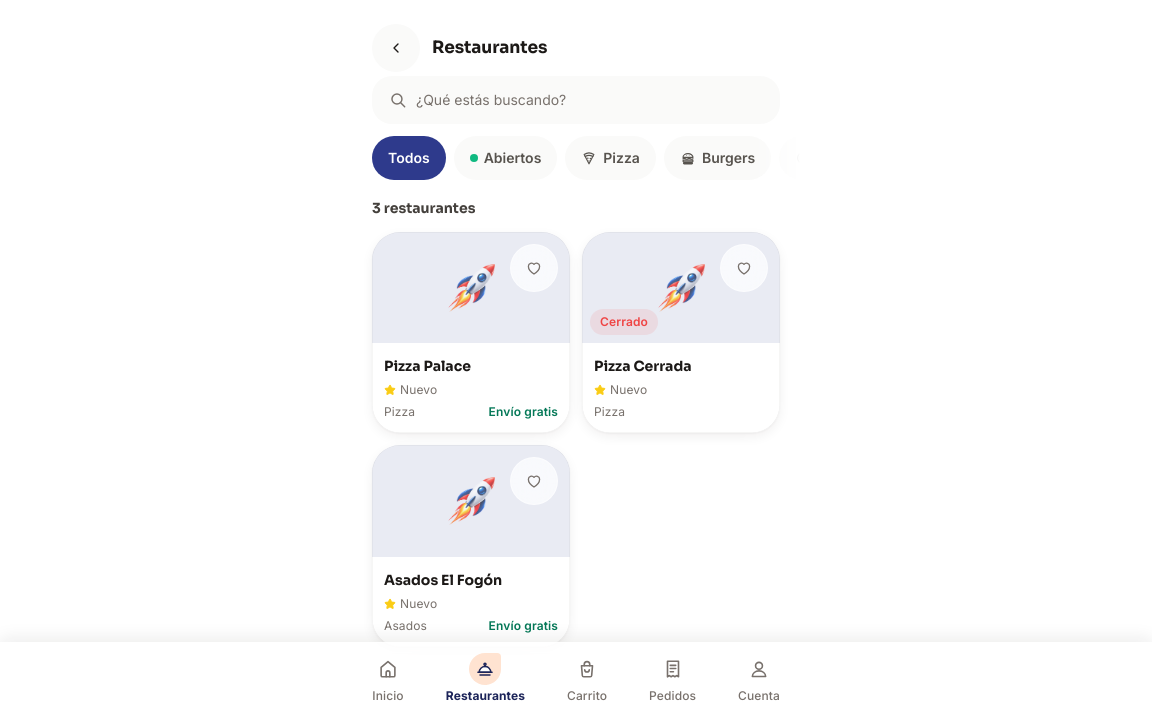
Test case: <RestaurantListPage /> › escribir en la búsqueda filtra, actualiza el contador y la URL
The width and height of the screenshot is (1152, 720).
In the search field named "Buscar restaurantes": (576, 100) [372,76,780,124], type "pizzá"
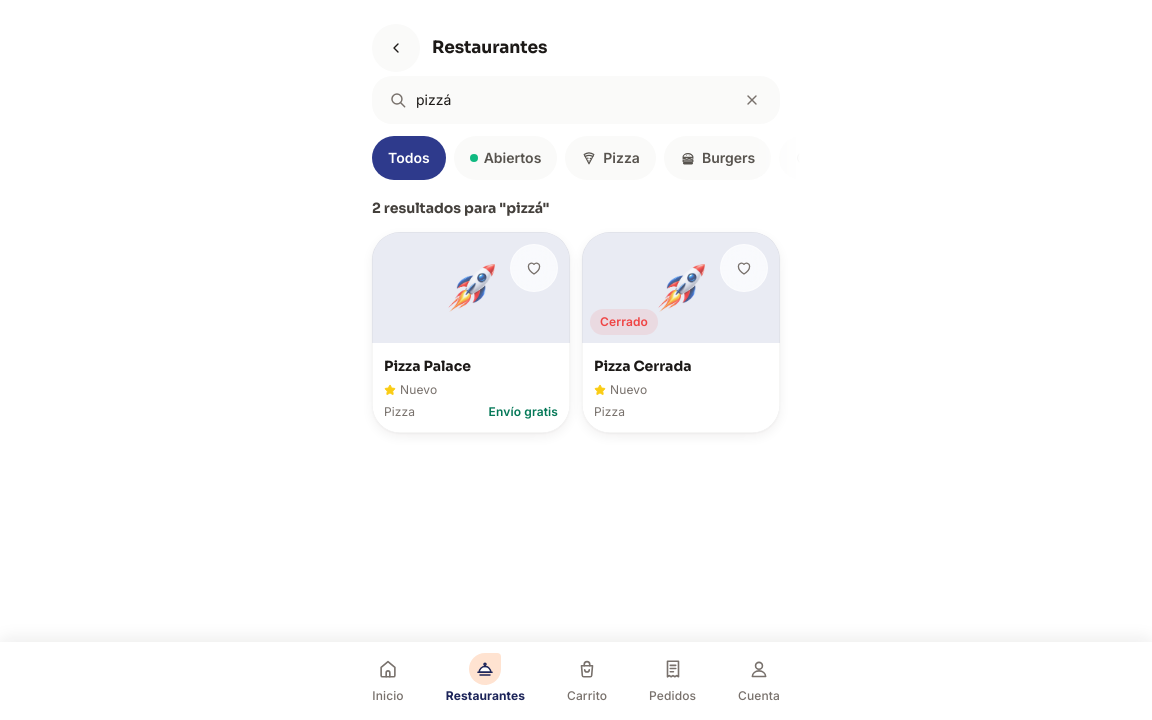
Expected: the text "Pizza Palace" is shown, [384,357,471,375]
Expected: the heading "2 resultados para \"pizzá\"" reads "2 resultados para \"pizzá\"", [372,199,550,217]
